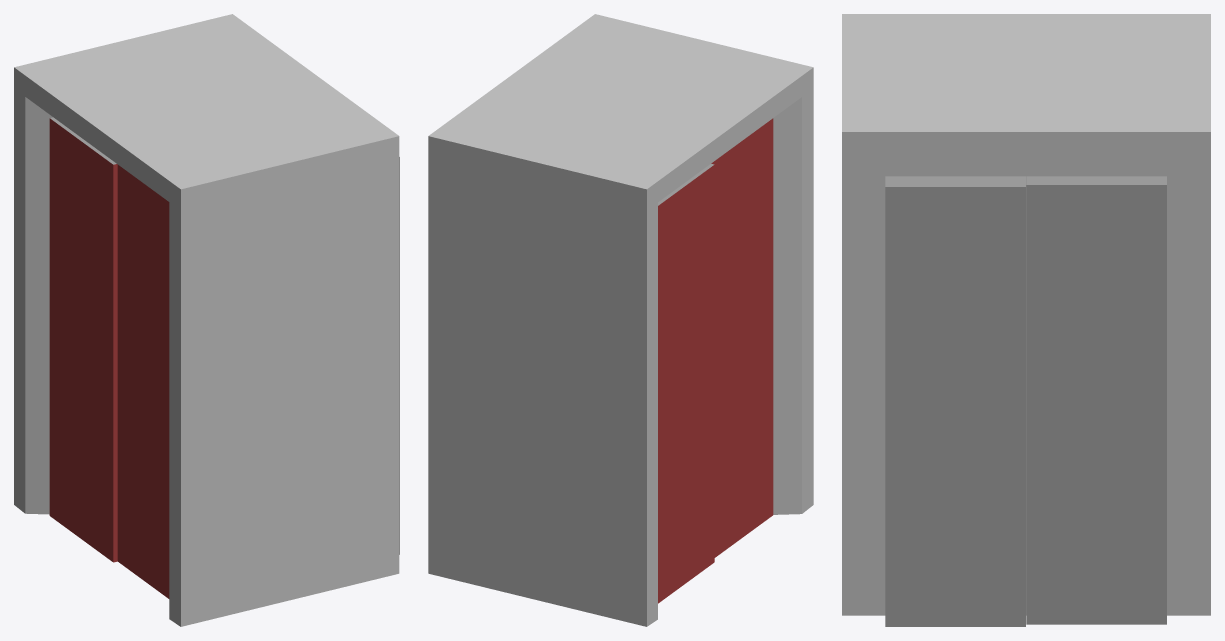
Rendered from Elevator.fbx.
3 views of the same model, side by side, from view 1: azimuth 30°, elevation 25°; view 2: azimuth 150°, elevation 25°; view 3: azimuth 270°, elevation 25° (orthographic). The views are drawn at different scales.
Visible parts, largest first — view 1: polySurface1; view 2: polySurface1; view 3: polySurface1.
Part boxes in pixels (box(x1,y1,x2,y2)): polySurface1: box(14, 14, 399, 626); polySurface1: box(428, 14, 813, 626); polySurface1: box(842, 14, 1210, 626).
Bounding box in the file's own units: 1.26 × 2.2 × 1.52.
